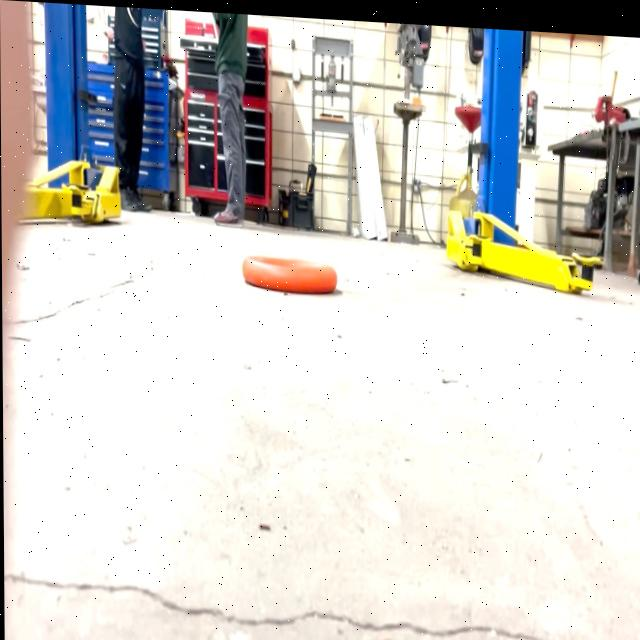note: (241, 248, 339, 291)
